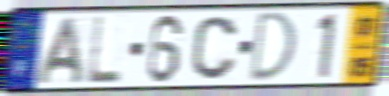1: (314, 11, 338, 81)
6: (145, 12, 187, 85)
A: (33, 15, 86, 87)
C: (189, 14, 239, 82)
D: (247, 9, 299, 84)
L: (84, 14, 124, 86)
